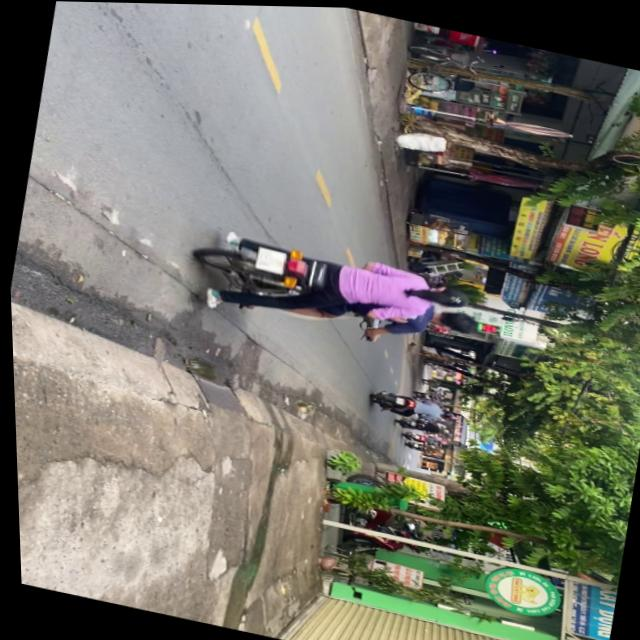licenseplate: (188, 219, 491, 360)
motorcyclist: (430, 302, 482, 336), (422, 279, 470, 310)
nohelmet: (253, 245, 287, 272)
